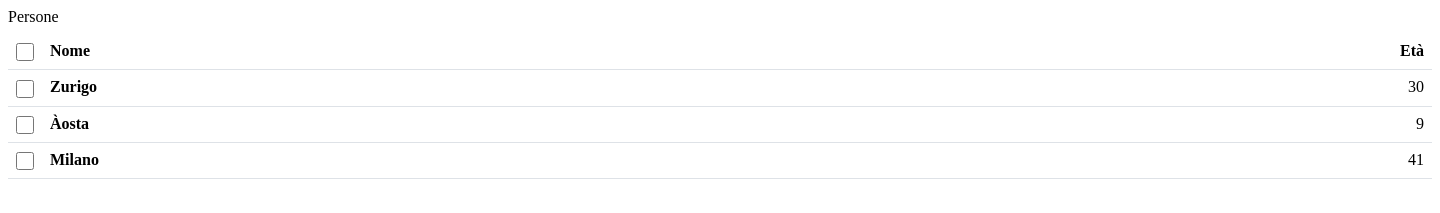
Test: a selectable table › announces the header box, and only the header box — in either order
Click the checkbox named "Select Zurigo".
click(25, 89)  # box [16,80,34,98]
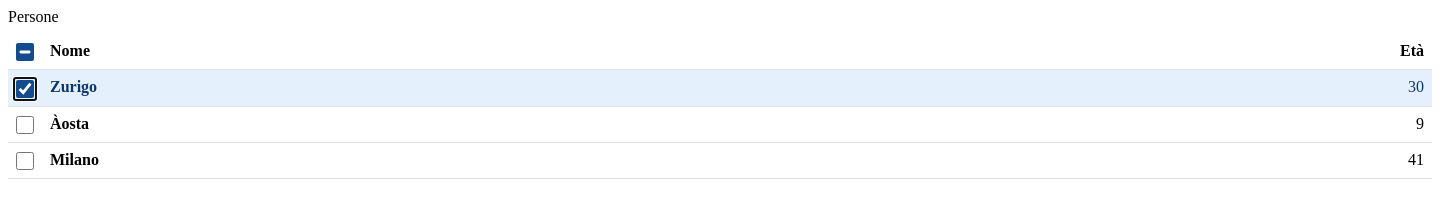
Click the checkbox named "Select all rows".
click(25, 52)  # box [16,43,34,61]
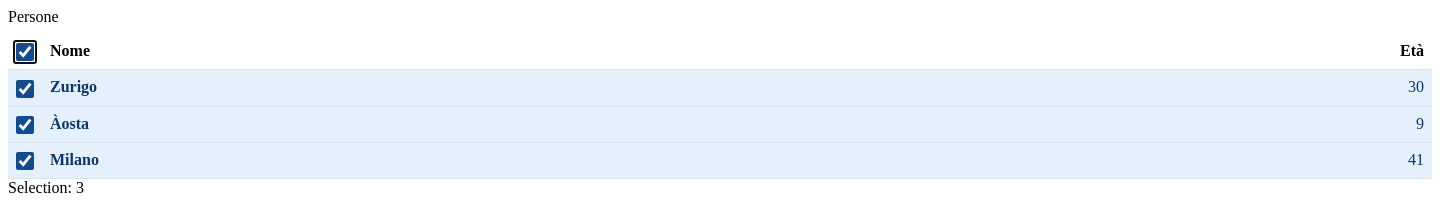
Expected: the message "Selection: 3" is shown, [8,179,84,196]
Click the checkbox named "Select Àosta".
click(25, 125)  # box [16,116,34,134]
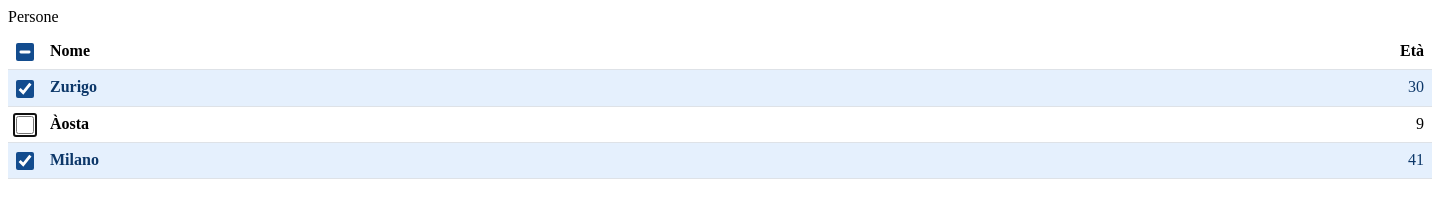
Click the checkbox named "Select all rows".
click(25, 52)  # box [16,43,34,61]
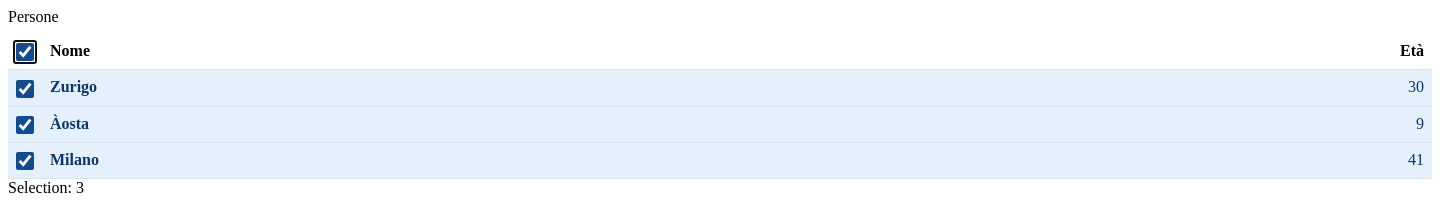
Expected: the message "Selection: 3" is shown, [8,179,84,196]
Click the checkbox named "Select all rows".
click(25, 52)  # box [16,43,34,61]
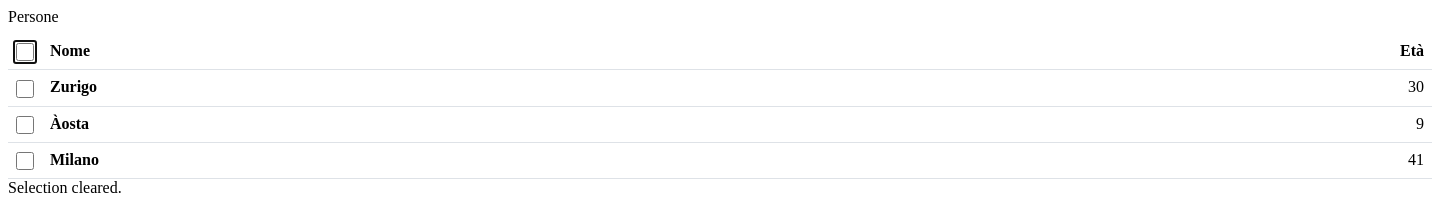
Expected: the message "Selection cleared." is shown, [8,179,122,196]
